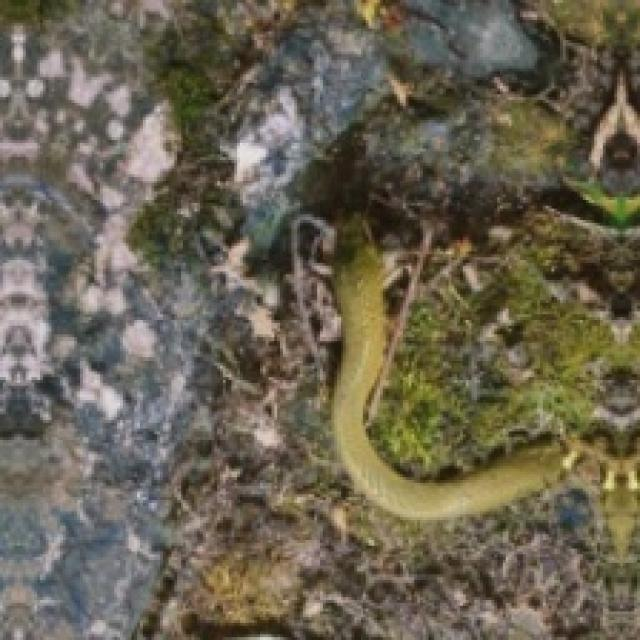gunthers philippine shrub snake: (331, 217, 577, 517), (331, 217, 571, 520)
